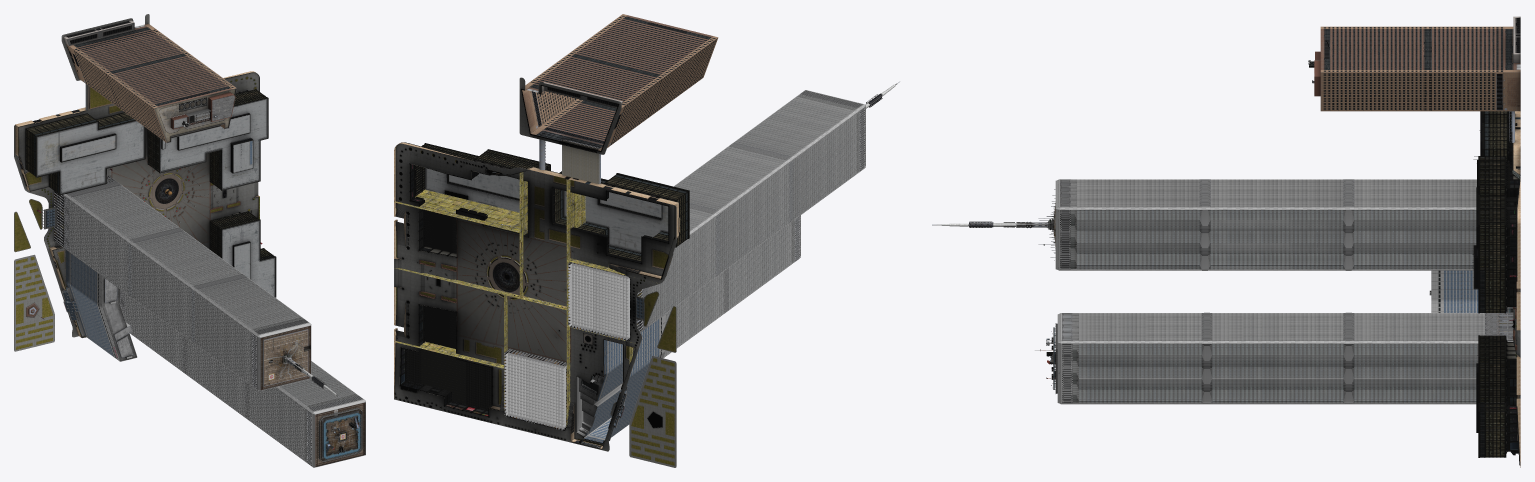
Rendered from The World Trade Center.obj.
3 renders of one model, left to right at view 1: azimuth 30°, elevation 25°; view 2: azimuth 150°, elevation 25°; view 3: azimuth 270°, elevation 25°, orthographic. The views are drawn at different scales.
Parts seen in each view (by area): view 1: polySurface4348, polySurface3029, polySurface5893, polySurface2639, polySurface4892, polySurface5150, polySurface3958, polySurface3494, polySurface5460, polySurface3287, polySurface5497; view 2: polySurface4348, polySurface3029, polySurface5893, polySurface2639, polySurface3958, polySurface3494, polySurface4892, polySurface5150, polySurface3287, polySurface5497, polySurface5460; view 3: polySurface5893, polySurface4348, polySurface3029, polySurface3494, polySurface4892, polySurface5497, polySurface3958, polySurface5150, polySurface2639, polySurface3287.
Part boxes in pixels (left/top/right/bottom): polySurface4348: left=14, top=175, right=340, bottom=397; polySurface3029: left=61, top=14, right=236, bottom=143; polySurface5893: left=120, top=204, right=365, bottom=467; polySurface2639: left=14, top=104, right=125, bottom=195; polySurface4892: left=166, top=182, right=262, bottom=267; polySurface5150: left=55, top=242, right=137, bottom=361; polySurface3958: left=152, top=137, right=268, bottom=207; polySurface3494: left=168, top=71, right=268, bottom=161; polySurface5460: left=14, top=242, right=58, bottom=351; polySurface3287: left=112, top=104, right=167, bottom=207; polySurface5497: left=235, top=248, right=276, bottom=297; polySurface4348: left=566, top=81, right=899, bottom=352; polySurface3029: left=519, top=14, right=718, bottom=183; polySurface5893: left=504, top=215, right=800, bottom=441; polySurface2639: left=566, top=173, right=689, bottom=283; polySurface3958: left=394, top=189, right=527, bottom=298; polySurface3494: left=394, top=142, right=539, bottom=232; polySurface4892: left=394, top=268, right=507, bottom=368; polySurface5150: left=566, top=314, right=665, bottom=451; polySurface3287: left=519, top=163, right=585, bottom=309; polySurface5497: left=394, top=341, right=504, bottom=426; polySurface5460: left=629, top=342, right=676, bottom=467; polySurface5893: left=1035, top=312, right=1513, bottom=404; polySurface4348: left=932, top=179, right=1476, bottom=270; polySurface3029: left=1308, top=16, right=1520, bottom=142; polySurface3494: left=1472, top=155, right=1520, bottom=274; polySurface4892: left=1476, top=309, right=1520, bottom=411; polySurface5497: left=1476, top=396, right=1520, bottom=467; polySurface3958: left=1472, top=254, right=1520, bottom=338; polySurface5150: left=1429, top=270, right=1513, bottom=312; polySurface2639: left=1473, top=111, right=1520, bottom=159; polySurface3287: left=1477, top=128, right=1520, bottom=187.
Bounding box in the file's own units: 28800 × 34400 × 53295.
11 materials, 11 textured.
